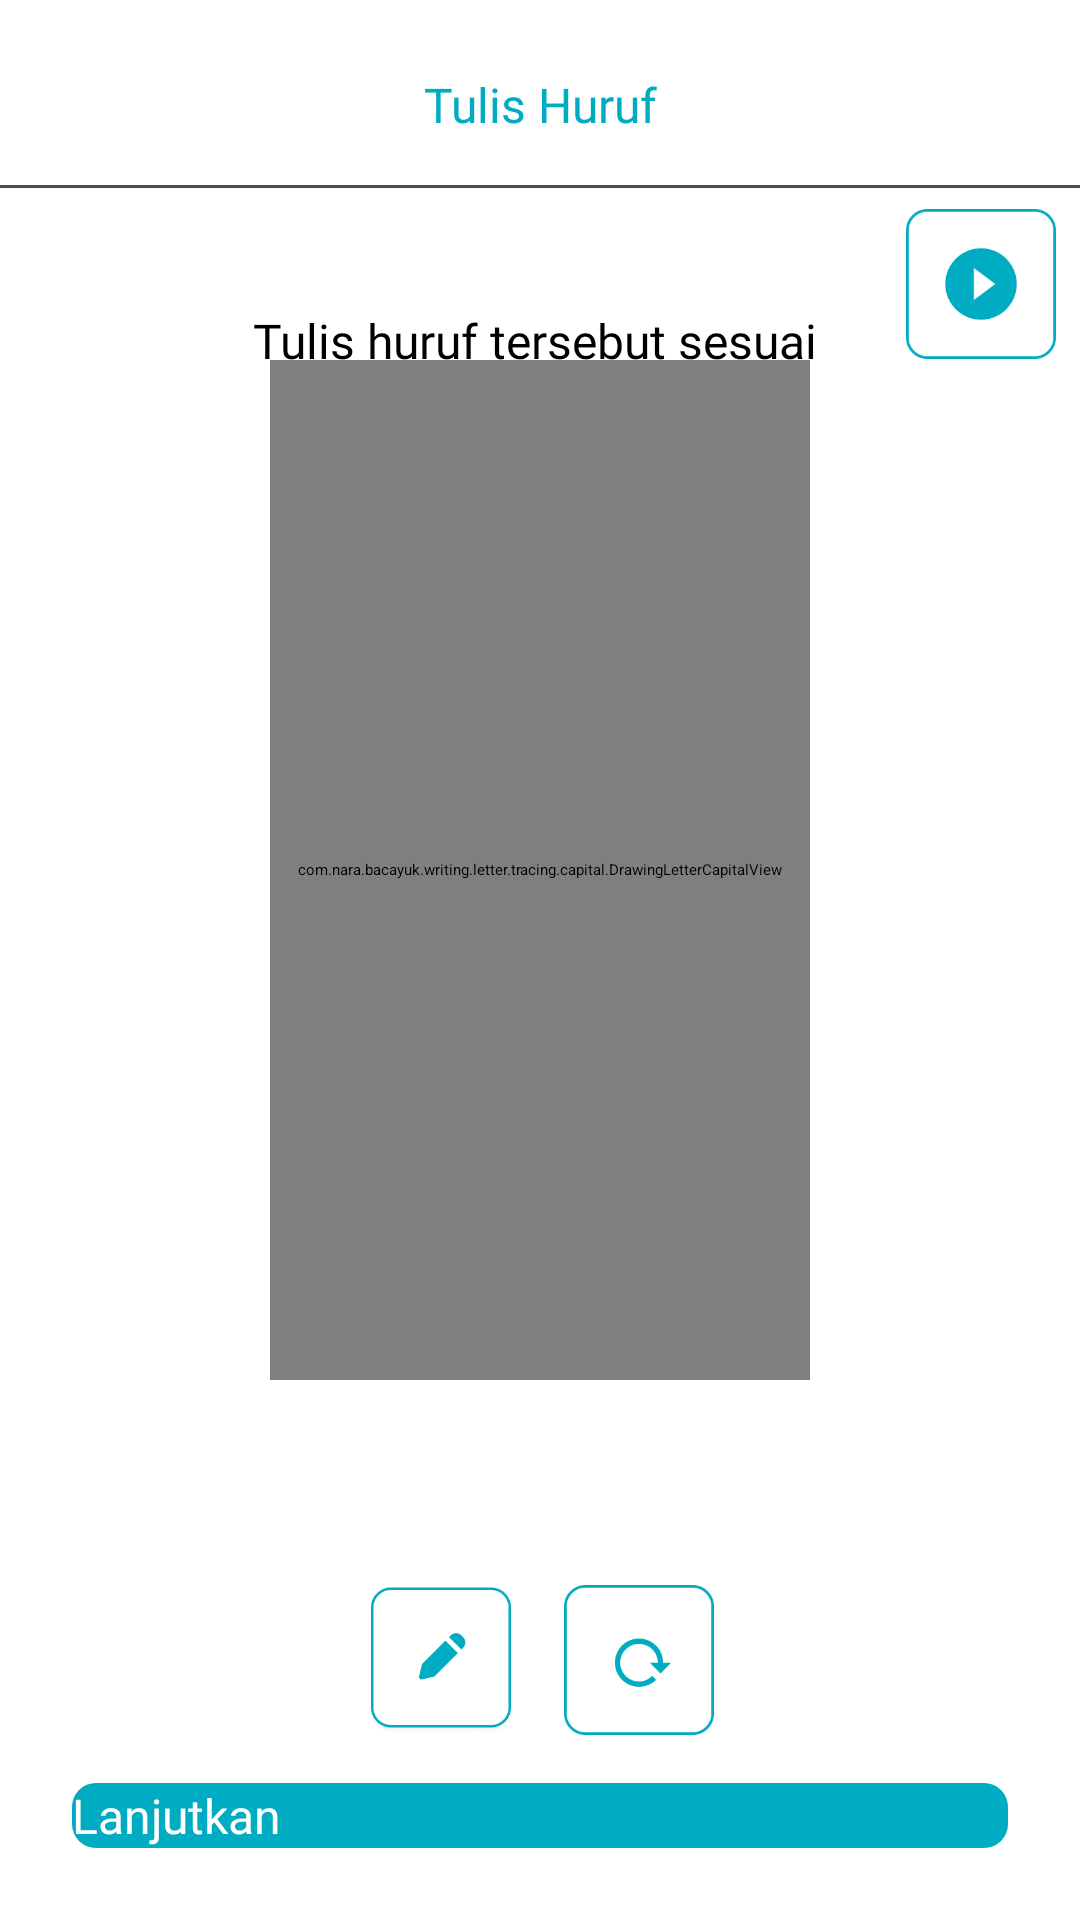

Where to tap for icons on this 1080x1920 app screen, as [x,y]:
Button Play Animation: [981,284]
pencil: [441,1657]
reload: [639,1660]
